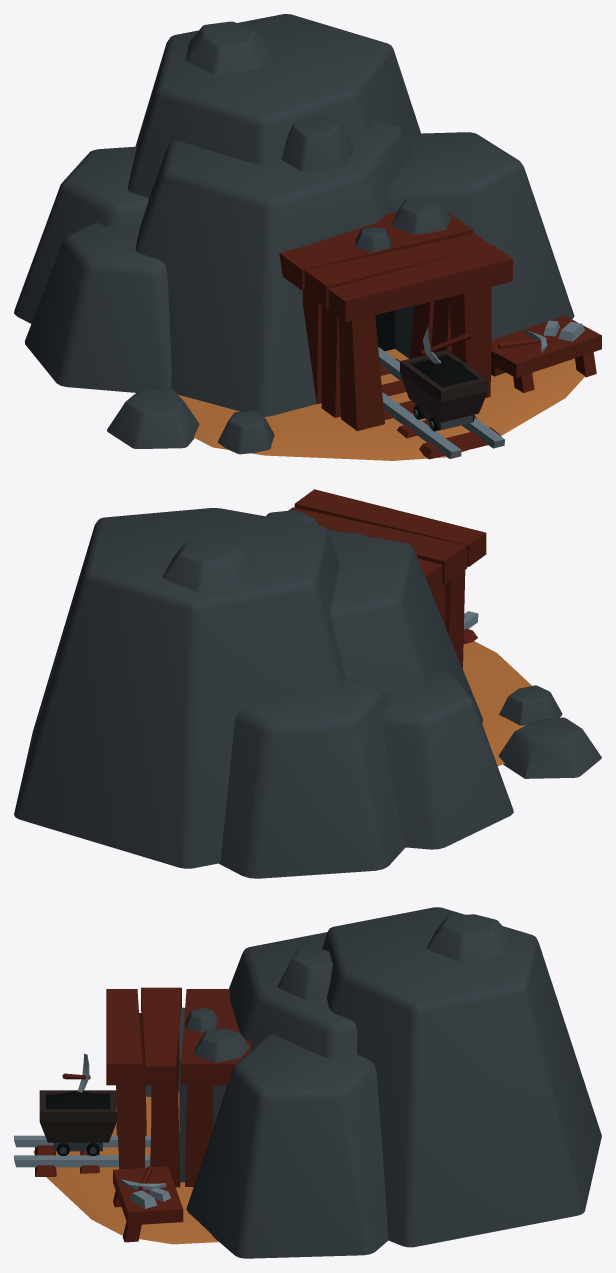
File: mine.obj
3 views of the same model, one above another, from view 1: azimuth 30°, elevation 25°; view 2: azimuth 150°, elevation 25°; view 3: azimuth 270°, elevation 25° (orthographic). The views are drawn at different scales.
Visible parts, largest first — view 1: mine_Cube.400; view 2: mine_Cube.400; view 3: mine_Cube.400.
Boxes of the visible parts, x1,y1,x2,y2 form: mine_Cube.400: (14,14,601,460); mine_Cube.400: (14,489,601,878); mine_Cube.400: (14,907,601,1258).
Bounding box in the file's own units: 1.61 × 0.8294 × 1.88.
